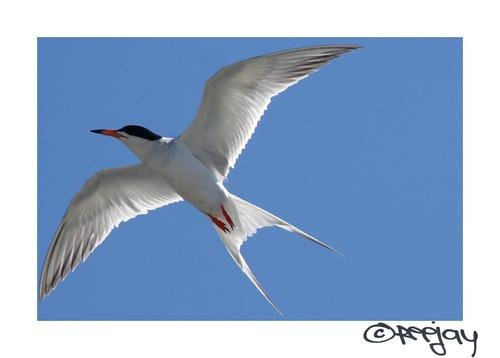bird: (39, 41, 365, 313)
